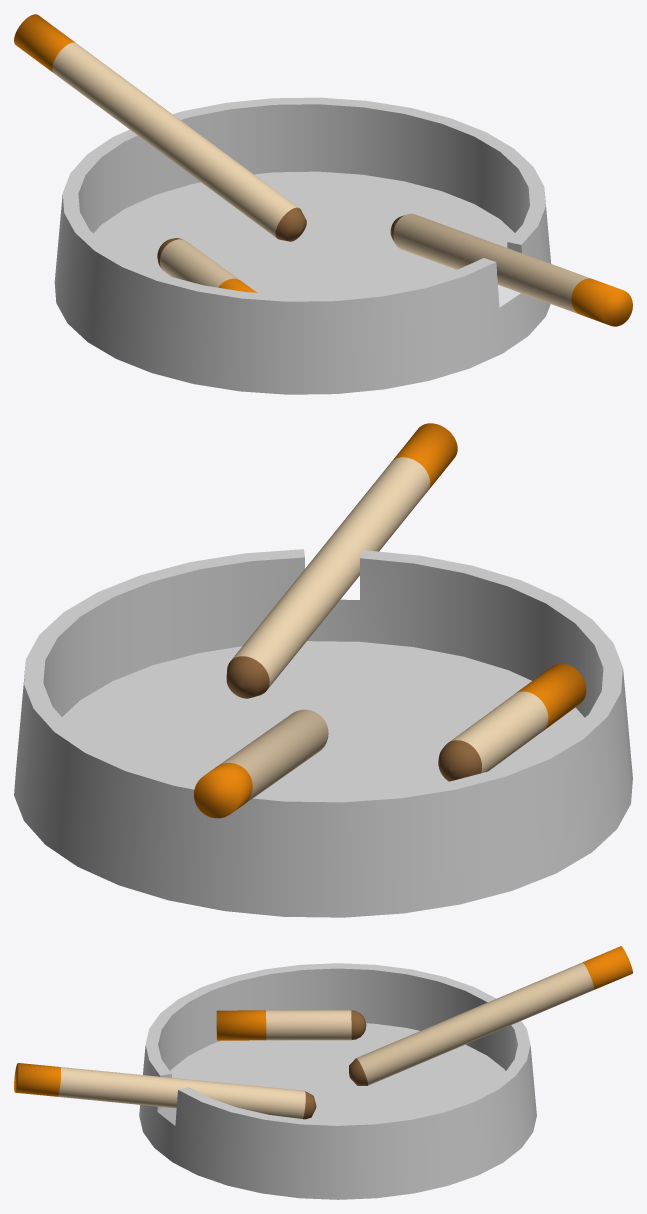
The model's file is Ash_Tray(v4).fbx.
The picture shows the model from 3 angles, top to bottom: view 1: azimuth 30°, elevation 25°; view 2: azimuth 150°, elevation 25°; view 3: azimuth 270°, elevation 25°; orthographic projection. The views are drawn at different scales.
Visible parts, largest first — view 1: Cylinder, Cigarrette; view 2: Cylinder, Cigarrette; view 3: Cylinder, Cigarrette.
Boxes of the visible parts, x1=… form: Cylinder: x1=54, y1=97, x2=551, y2=394; Cigarrette: x1=14, y1=14, x2=632, y2=326; Cylinder: x1=14, y1=549, x2=632, y2=917; Cigarrette: x1=194, y1=423, x2=586, y2=818; Cylinder: x1=139, y1=963, x2=536, y2=1199; Cigarrette: x1=14, y1=946, x2=632, y2=1119.
Bounding box in the file's own units: 200 × 73.16 × 311.
